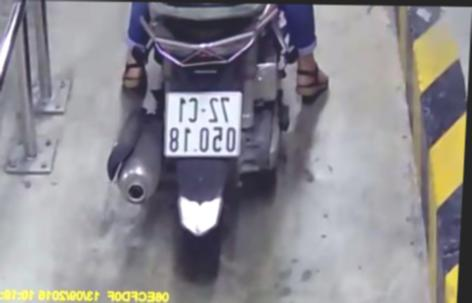License_Plate: (158, 83, 253, 165)
